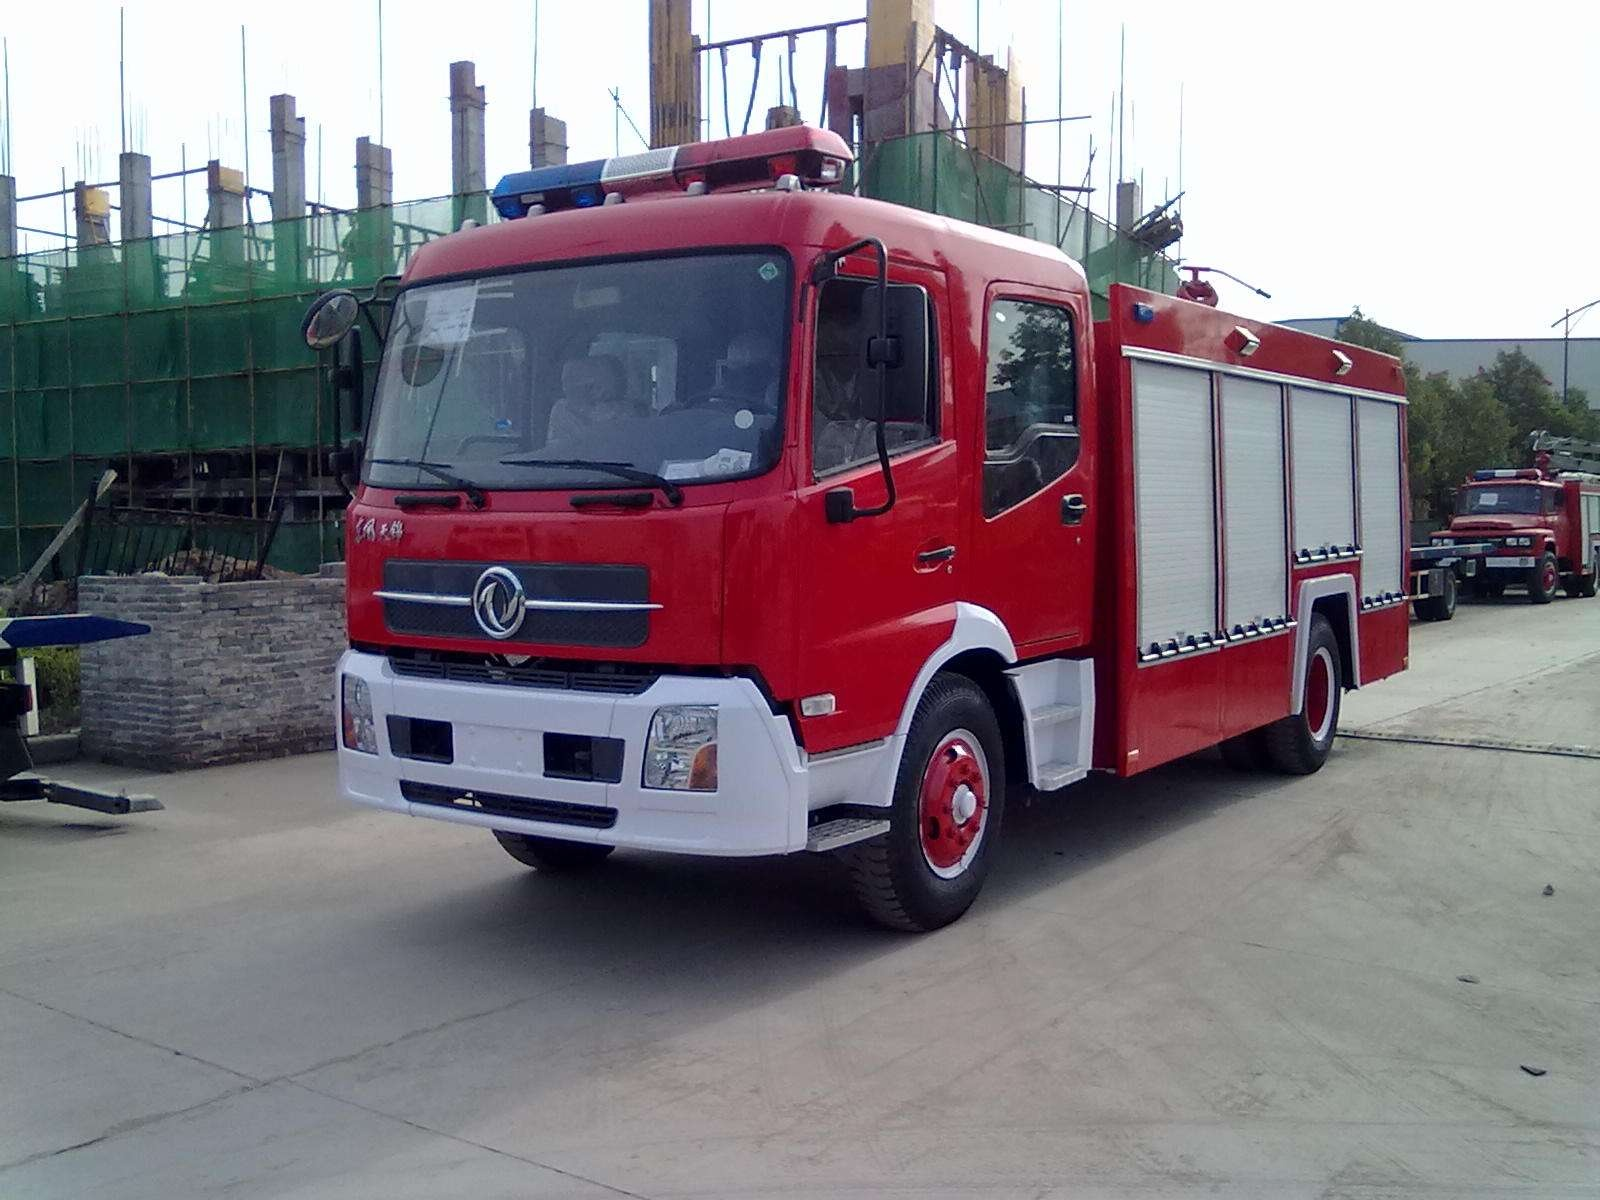fire engine: (330, 192, 1421, 915)
